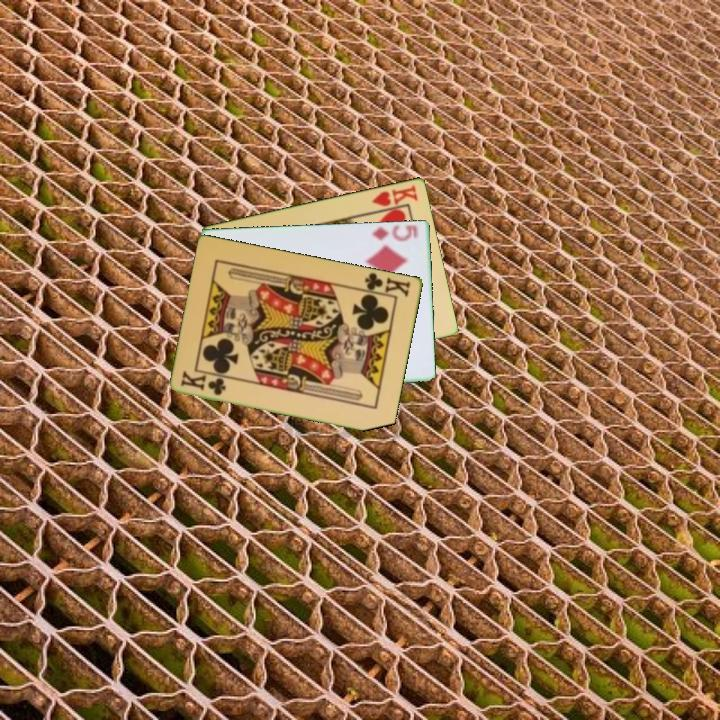5d: (368, 221, 420, 244)
Kc: (358, 269, 414, 299), (178, 368, 229, 398)
Kh: (367, 181, 421, 215)
